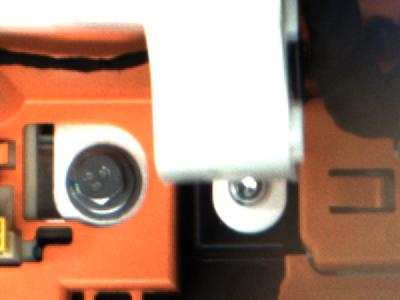nut_b: (66, 144, 151, 223)
